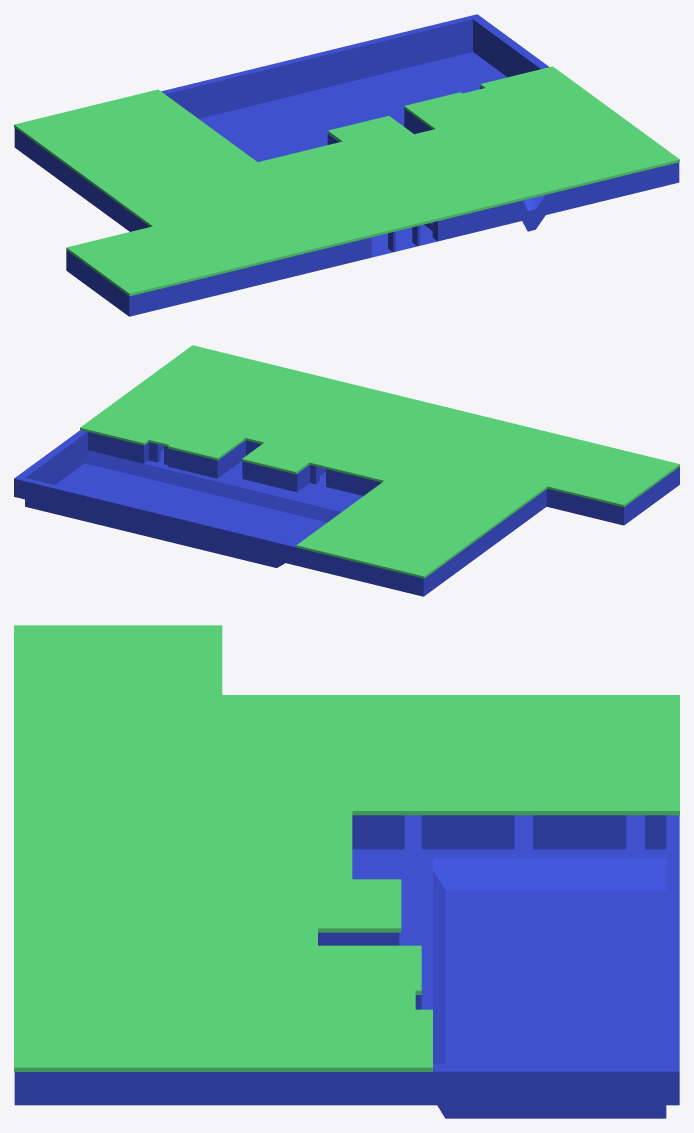
Rendered from uni.fbx.
The picture shows the model from 3 angles, top to bottom: view 1: azimuth 30°, elevation 25°; view 2: azimuth 150°, elevation 25°; view 3: azimuth 270°, elevation 25°; orthographic projection. The views are drawn at different scales.
Visible parts, largest first — view 1: Plane.001, Plane; view 2: Plane.001, Plane; view 3: Plane.001, Plane.
Boxes of the visible parts, x1=… form: Plane.001: x1=14, y1=66, x2=679, y2=296; Plane: x1=14, y1=14, x2=679, y2=316; Plane.001: x1=80, y1=345, x2=679, y2=578; Plane: x1=14, y1=430, x2=679, y2=596; Plane.001: x1=14, y1=625, x2=679, y2=1071; Plane: x1=14, y1=815, x2=679, y2=1118.
Size of the model in its own units: 11206 by 686 by 7131.
